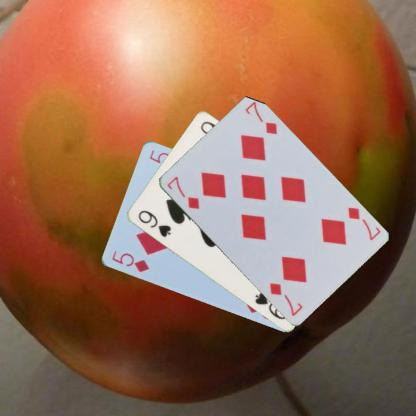5d: (109, 248, 150, 274)
7d: (164, 173, 201, 211), (344, 205, 382, 242)
9s: (135, 208, 172, 238)
